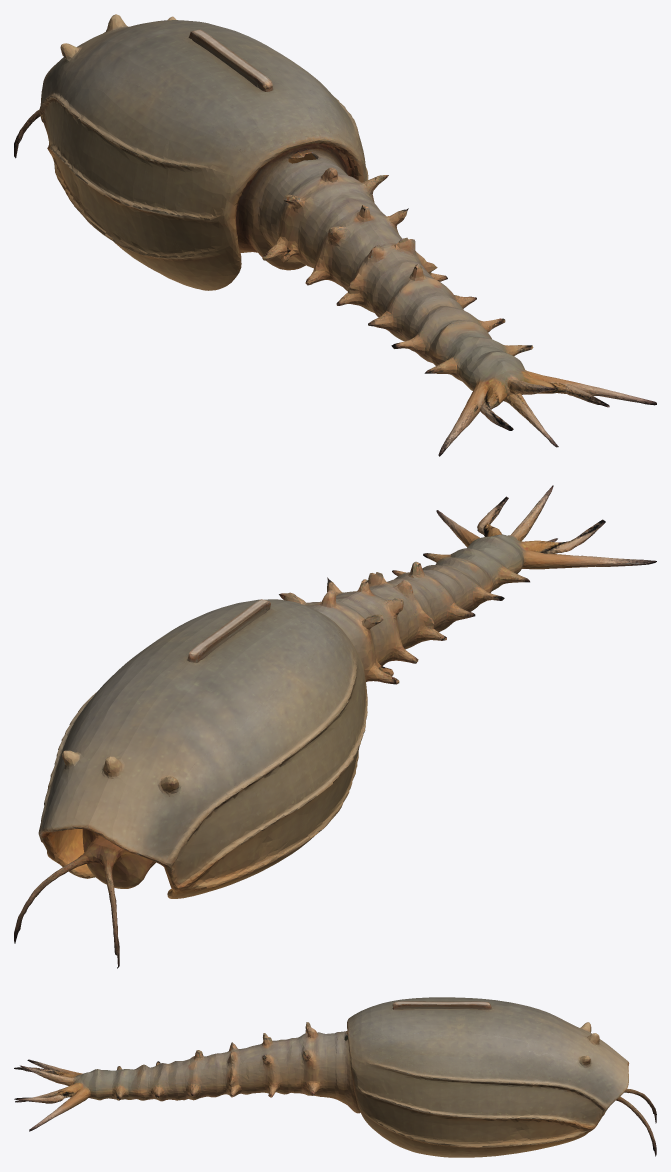
3 renders of one model, top to bottom at view 1: azimuth 30°, elevation 25°; view 2: azimuth 150°, elevation 25°; view 3: azimuth 270°, elevation 25°, orthographic. The views are drawn at different scales.
Visible parts, largest first — view 1: world; view 2: world; view 3: world.
Boxes of the visible parts, x1,y1,x2,y2 form: world: (14,14,656,456); world: (14,485,656,968); world: (14,997,656,1157).
Bounding box in the file's own units: 0.269 × 0.2371 × 0.9995.
Materials: 1 (1 with a texture image).
